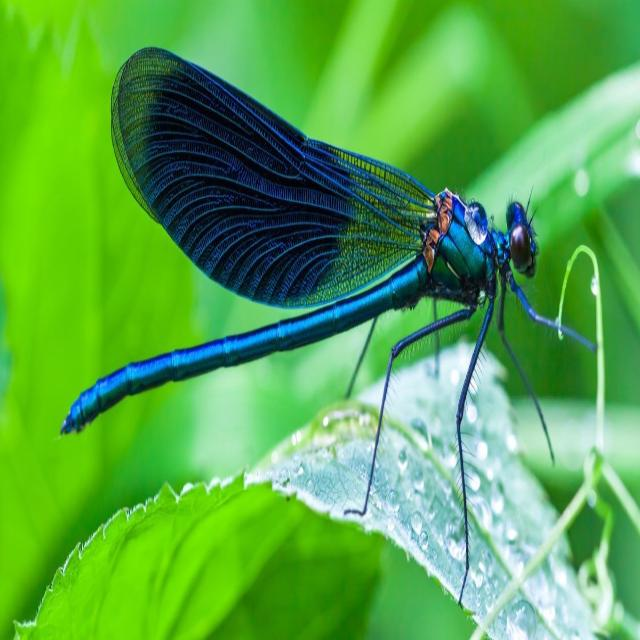dragonfly: (61, 47, 596, 603)
